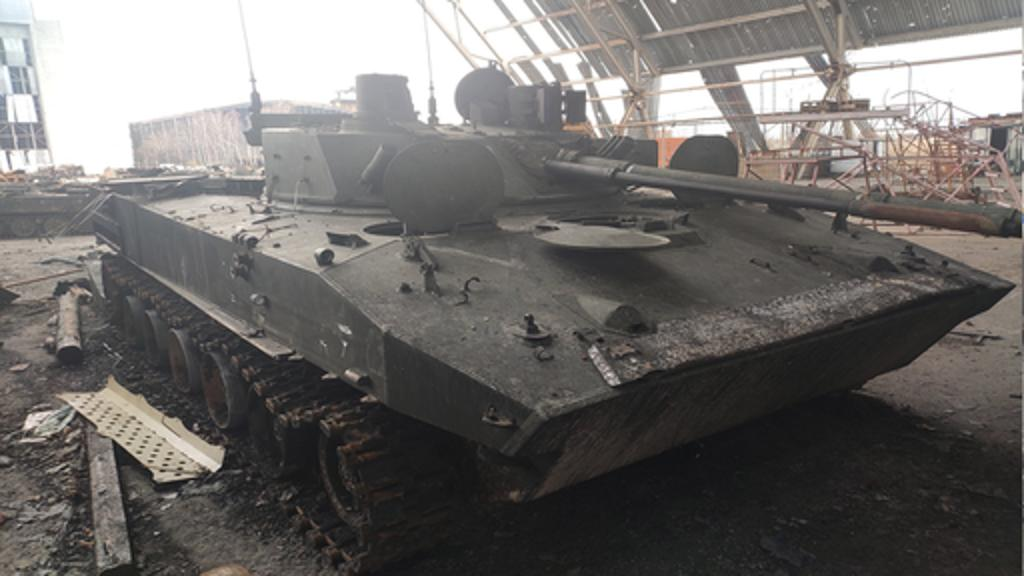APC-IFV: (88, 90, 1002, 538)
